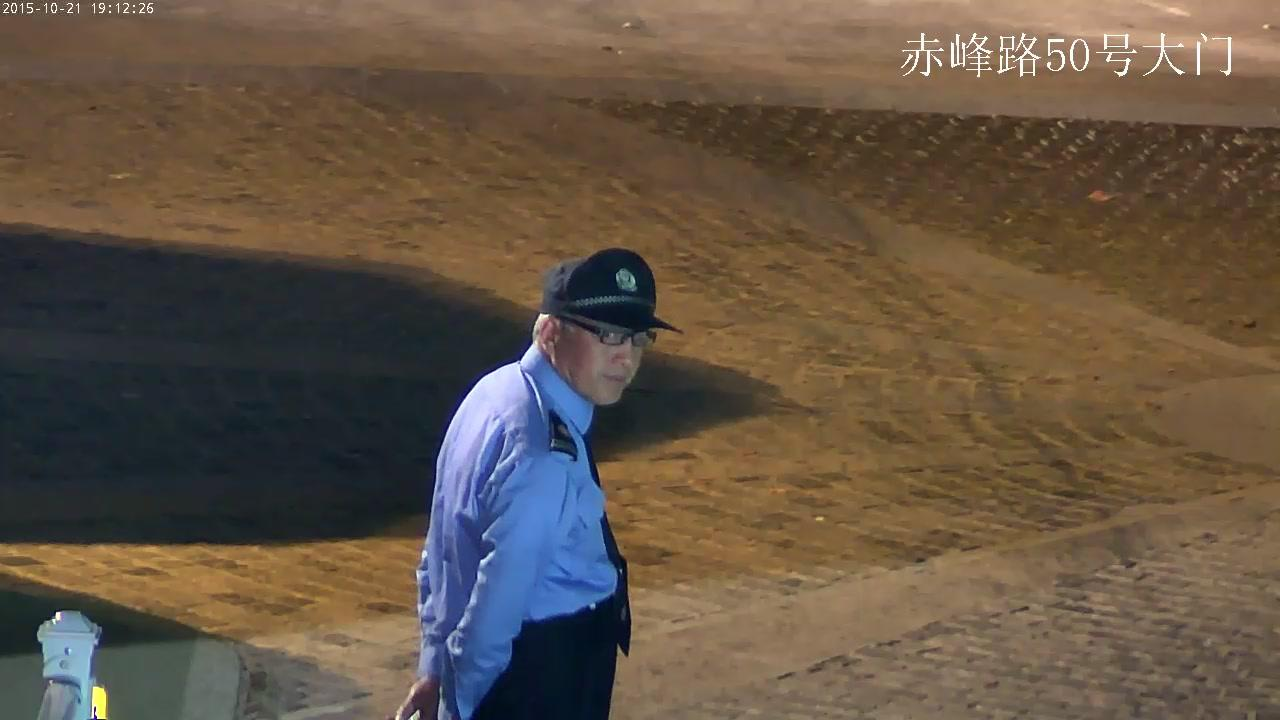face: (558, 321, 645, 406)
